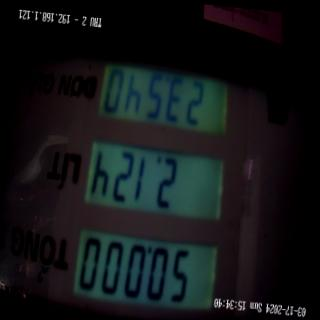screen: (65, 27, 243, 320)
